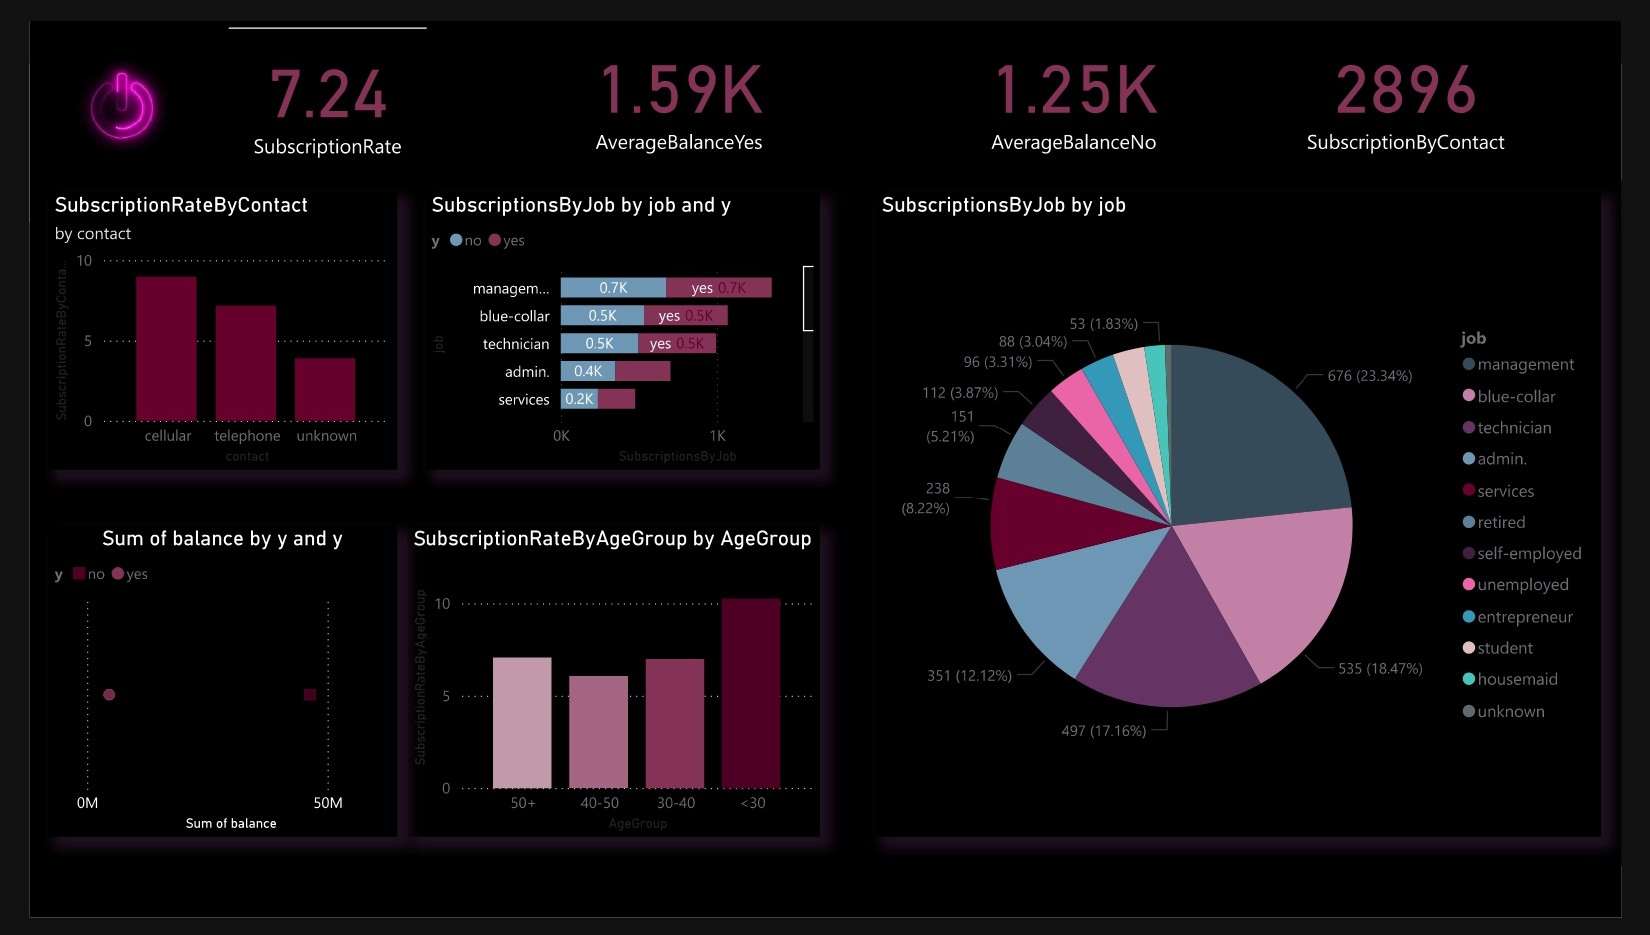

Layout of this report page (visuals, bound fields, positions):
{"tool":"powerbi","page":{"name":"Page 1","canvas":[1280,720],"ordinal":0},"visuals":[{"type":"card","fields":{"Values":["train.SubscriptionRate"]},"box":[160,0,158.6,115.7],"z":1000},{"type":"clusteredColumnChart","fields":{"Category":["train.AgeGroup"],"Y":["train.SubscriptionRateByAgeGroup"]},"box":[303.3,405,331.7,250],"z":2000},{"type":"barChart","fields":{"Category":["train.job"],"Y":["train.SubscriptionsByJob"],"Series":["train.y"]},"box":[318.3,136.7,316.7,223.3],"z":3000},{"type":"card","fields":{"Values":["train.AverageBalanceYes"]},"box":[430,0,184.3,115.7],"z":5000},{"type":"card","fields":{"Values":["train.AverageBalanceNo"]},"box":[752.9,0,172.9,115.7],"z":6000},{"type":"columnChart","fields":{"Category":["train.contact"],"Y":["train.SubscriptionRateByContact"]},"box":[15,136.7,280,223.3],"z":7000},{"type":"card","fields":{"Values":["train.SubscriptionByContact"]},"box":[1017.6,0,177.2,116.2],"z":8000},{"type":"pieChart","fields":{"Category":["train.job","train.y"],"Y":["train.SubscriptionsByJob"]},"box":[680,136.7,583.3,518.3],"z":9000},{"type":"image","box":[0,0,142.9,137.1],"z":10000},{"type":"scatterChart","fields":{"X":["Sum(train.balance)"],"Category":["train.y"],"Series":["train.y"]},"box":[15,405,280,250],"z":12001}]}

Visuals, with their boxes in screenshot pixels (x1, y1, x2, y2), scaled from the page's 1280x720 canvas onto the 1650x935 screenshot:
card - train.SubscriptionRate: locate(206, 0, 411, 150)
clusteredColumnChart - train.AgeGroup x train.SubscriptionRateByAgeGroup: locate(391, 526, 819, 851)
barChart - train.job x train.SubscriptionsByJob: locate(410, 178, 819, 468)
card - train.AverageBalanceYes: locate(554, 0, 792, 150)
card - train.AverageBalanceNo: locate(971, 0, 1193, 150)
columnChart - train.contact x train.SubscriptionRateByContact: locate(19, 178, 380, 468)
card - train.SubscriptionByContact: locate(1312, 0, 1540, 151)
pieChart - train.job x train.y: locate(877, 178, 1628, 851)
image: locate(0, 0, 184, 178)
scatterChart - Sum(train.balance) x train.y: locate(19, 526, 380, 851)
